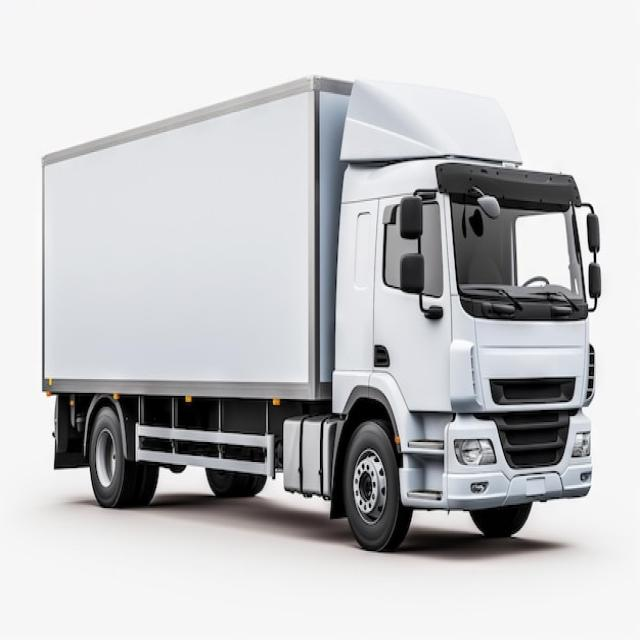TRUCK: (45, 76, 609, 571)
